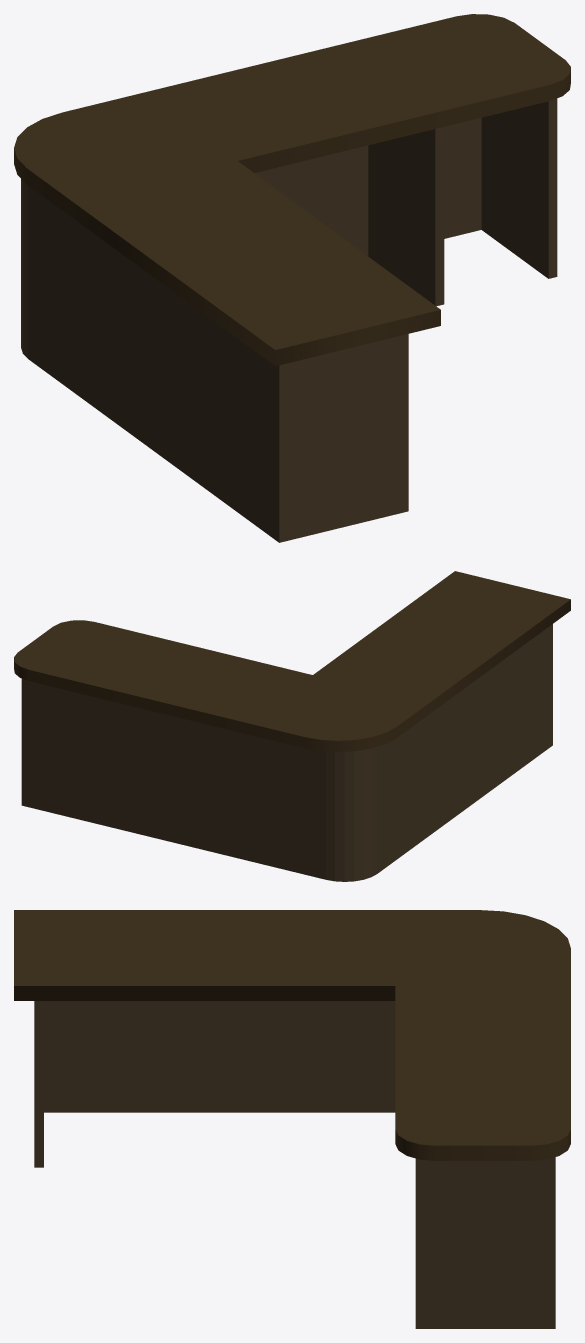
The model's file is Office_Desk_4_Rounded_Alt.fbx.
3 views of the same model, one above another, from view 1: azimuth 30°, elevation 25°; view 2: azimuth 150°, elevation 25°; view 3: azimuth 270°, elevation 25° (orthographic). The views are drawn at different scales.
Parts seen in each view (by area): view 1: Office_Desk_4_Rounded_Alt; view 2: Office_Desk_4_Rounded_Alt; view 3: Office_Desk_4_Rounded_Alt.
Boxes of the visible parts, x1,y1,x2,y2 form: Office_Desk_4_Rounded_Alt: [14, 14, 570, 542]; Office_Desk_4_Rounded_Alt: [14, 571, 570, 881]; Office_Desk_4_Rounded_Alt: [14, 910, 570, 1328].
Bounding box in the file's own units: 251 × 95.09 × 250.
